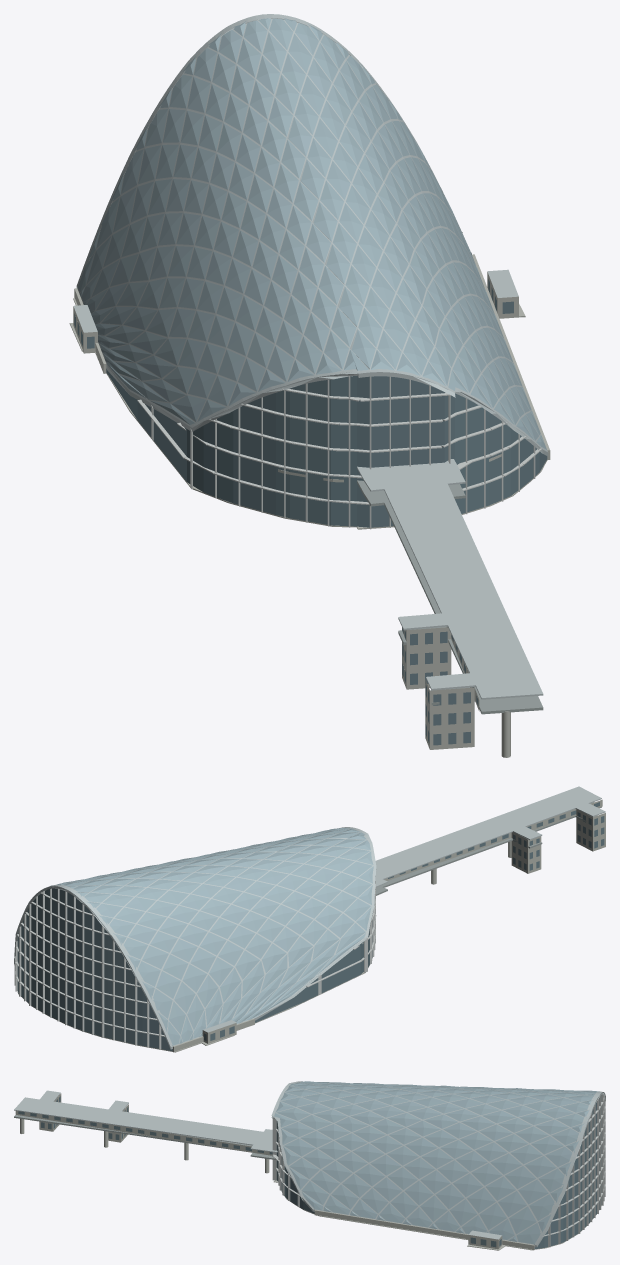
The model's file is anaheim-artic-near.glb.
3 views of the same model, one above another, from view 1: azimuth 30°, elevation 25°; view 2: azimuth 150°, elevation 25°; view 3: azimuth 270°, elevation 25° (orthographic). The views are drawn at different scales.
Visible parts, largest first — view 1: anaheim-artic-0-glow, anaheim-artic-0-steel, anaheim-artic-0-glass, anaheim-artic-0-frame, anaheim-artic-0-stone, anaheim-artic-0-deck; view 2: anaheim-artic-0-glow, anaheim-artic-0-steel, anaheim-artic-0-glass, anaheim-artic-0-frame, anaheim-artic-0-stone, anaheim-artic-0-deck; view 3: anaheim-artic-0-glow, anaheim-artic-0-steel, anaheim-artic-0-frame, anaheim-artic-0-glass, anaheim-artic-0-stone, anaheim-artic-0-deck.
Boxes of the visible parts, <box> form: anaheim-artic-0-glow: <box>77,17,546,449</box>; anaheim-artic-0-steel: <box>73,14,548,699</box>; anaheim-artic-0-glass: <box>74,279,547,745</box>; anaheim-artic-0-frame: <box>137,232,541,529</box>; anaheim-artic-0-stone: <box>69,254,550,757</box>; anaheim-artic-0-deck: <box>357,480,543,714</box>; anaheim-artic-0-glow: <box>51,828,373,1045</box>; anaheim-artic-0-steel: <box>14,786,605,1049</box>; anaheim-artic-0-glass: <box>17,802,604,1051</box>; anaheim-artic-0-frame: <box>14,869,376,1049</box>; anaheim-artic-0-stone: <box>17,799,605,1052</box>; anaheim-artic-0-deck: <box>376,802,601,895</box>; anaheim-artic-0-glow: <box>274,1081,598,1244</box>; anaheim-artic-0-steel: <box>14,1081,605,1247</box>; anaheim-artic-0-frame: <box>272,1094,605,1247</box>; anaheim-artic-0-glass: <box>18,1095,601,1248</box>; anaheim-artic-0-stone: <box>15,1093,599,1250</box>; anaheim-artic-0-deck: <box>14,1115,275,1159</box>.
Bounding box in the file's own units: 85.79 × 36.58 × 165.
